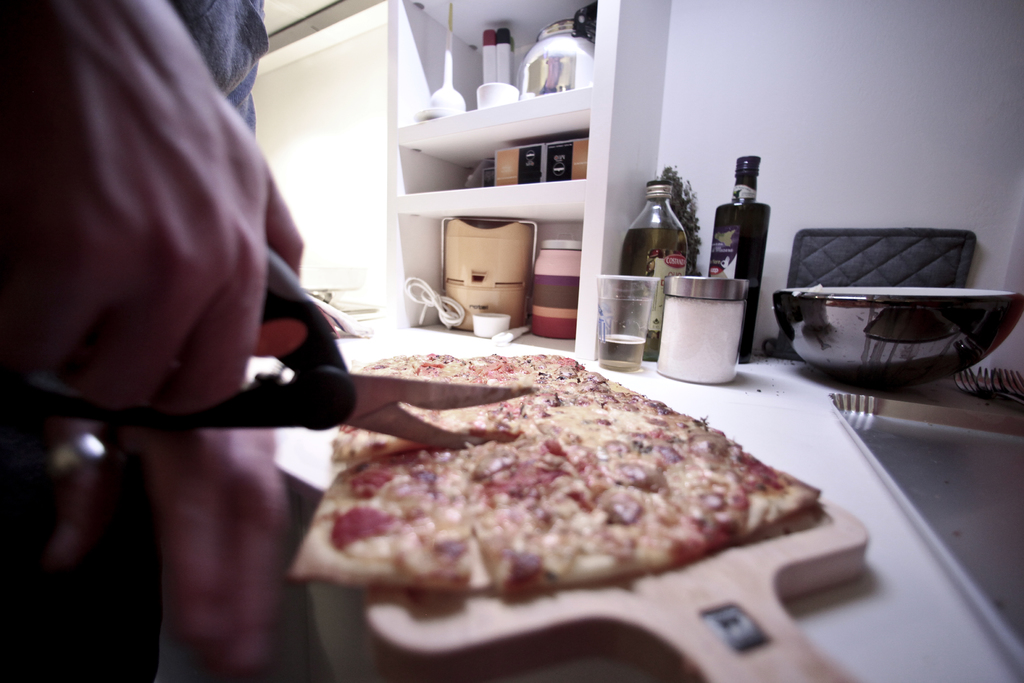Pizza: (269, 333, 854, 678)
